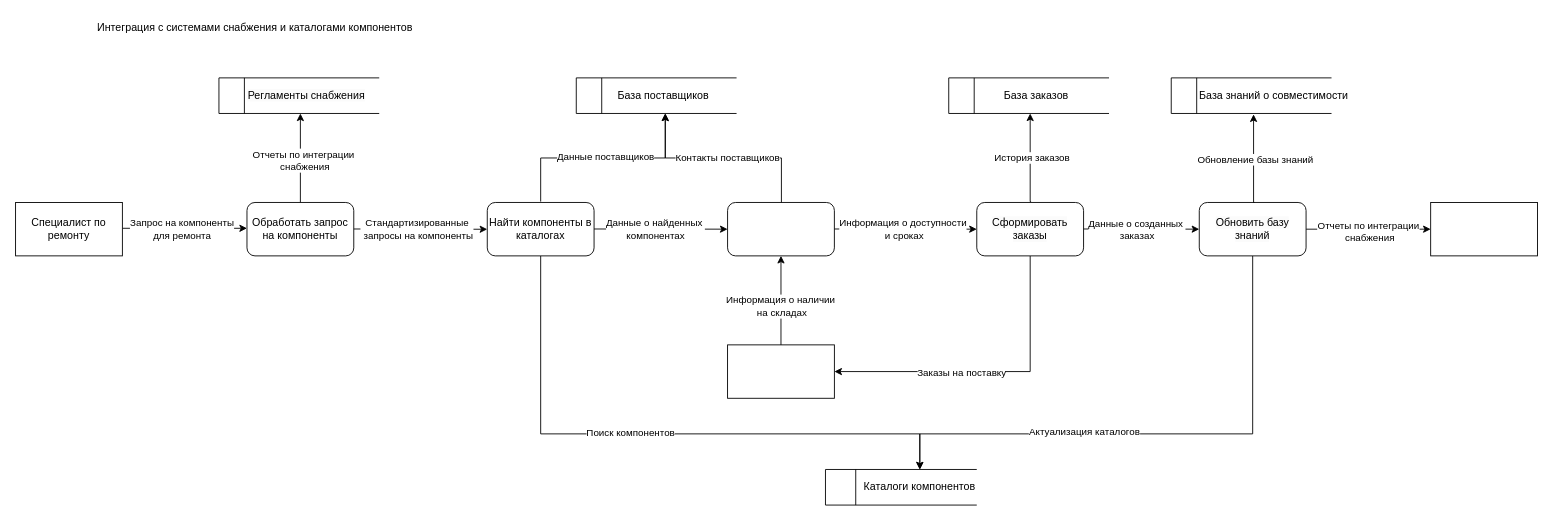
The diagram is 1553 pixels wide and 522 high, and some of its shapes have lost their labels. The box of each missing label's shape, as (x1, y1, x2, y2) in pixels:
Поставщики компонентов: (727, 344, 834, 398)
Проверить доступность поставки: (727, 202, 834, 256)
Система отчетности: (1430, 202, 1537, 256)
